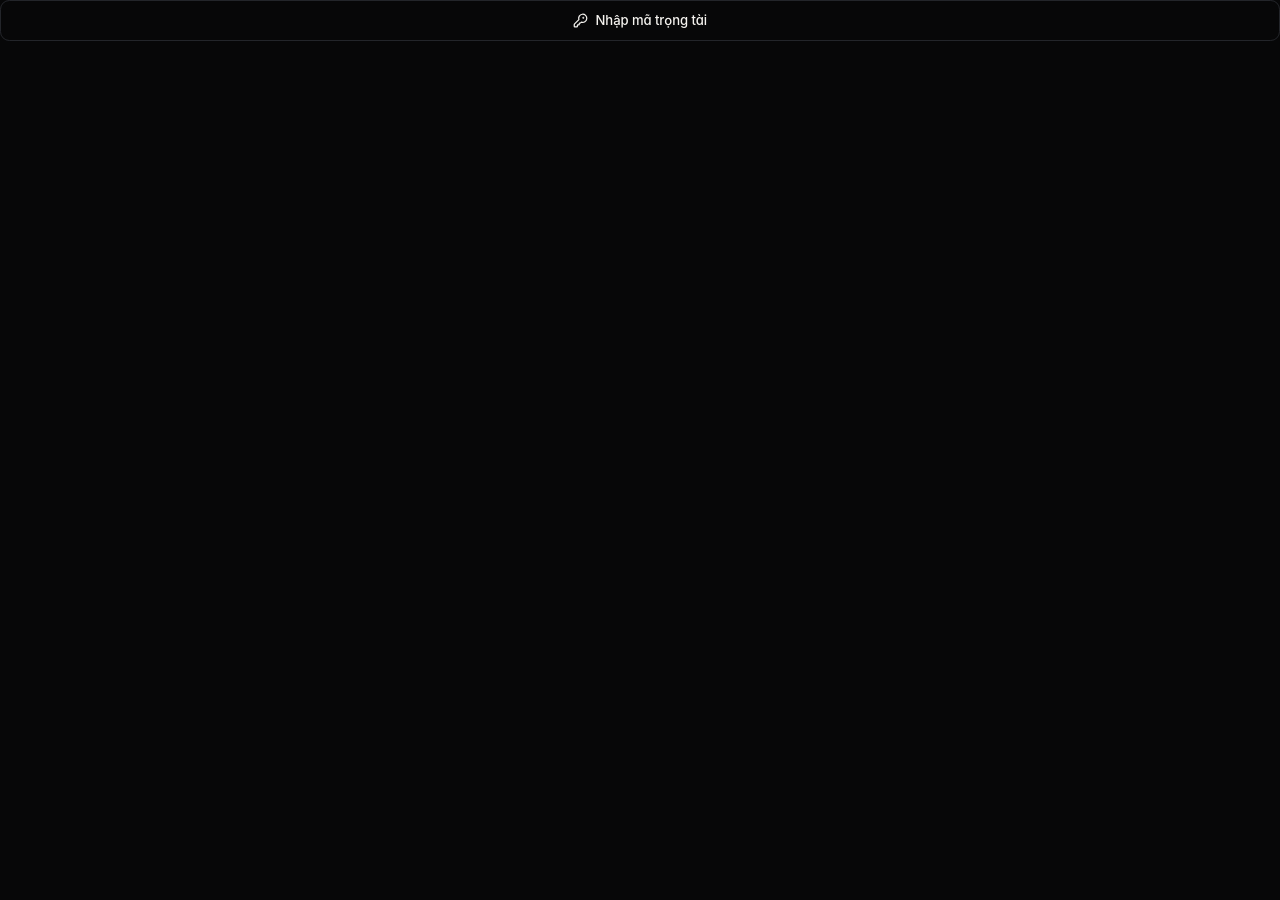
Scenario: RefereeJoinByPin — logged in › shows the invalid error inline
The width and height of the screenshot is (1280, 900).
Click the button "Nhập mã trọng tài": click(640, 21) [0,0,1279,41]
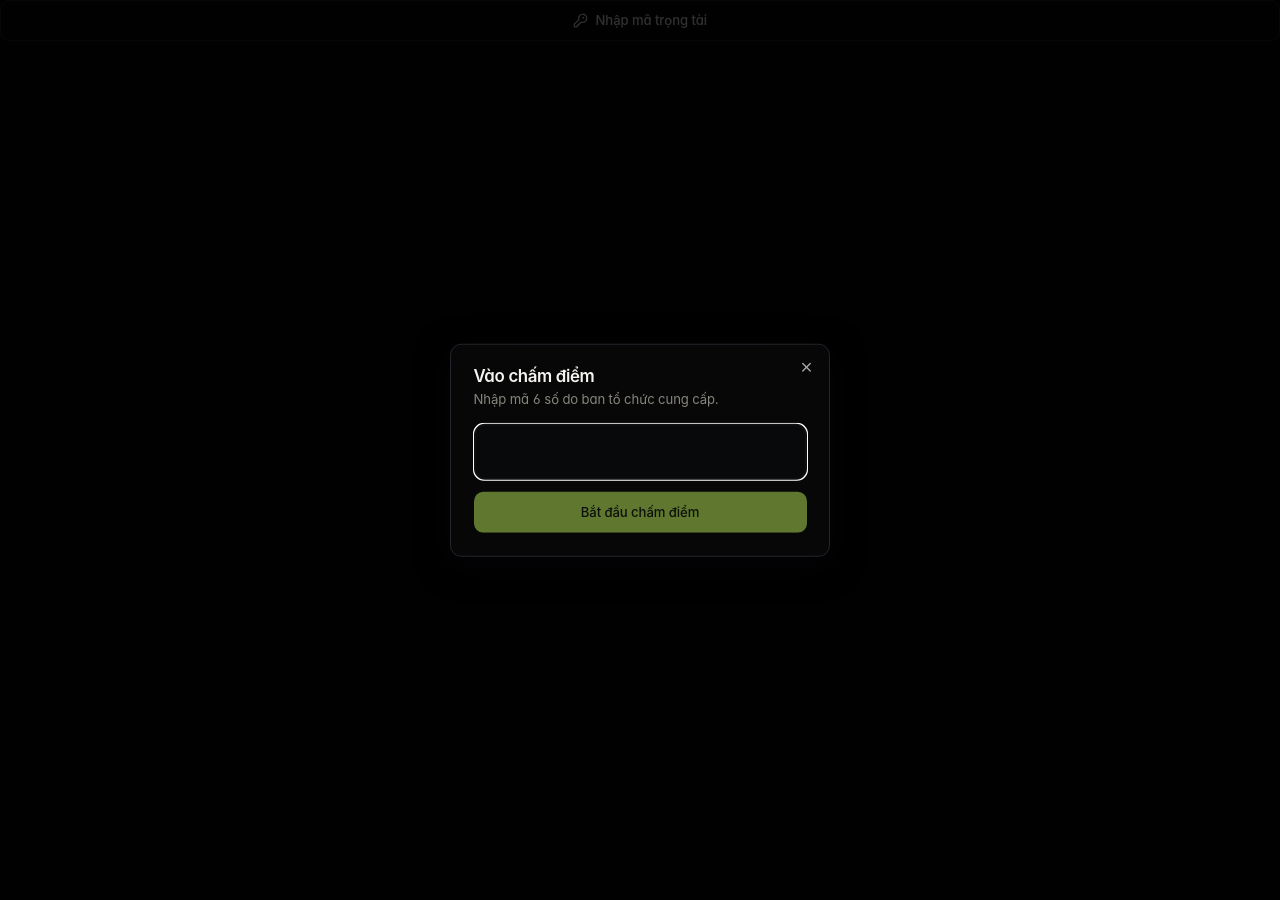
In the field named "Mã PIN trọng tài": (640, 452) [474,424,806,480], type "000000"
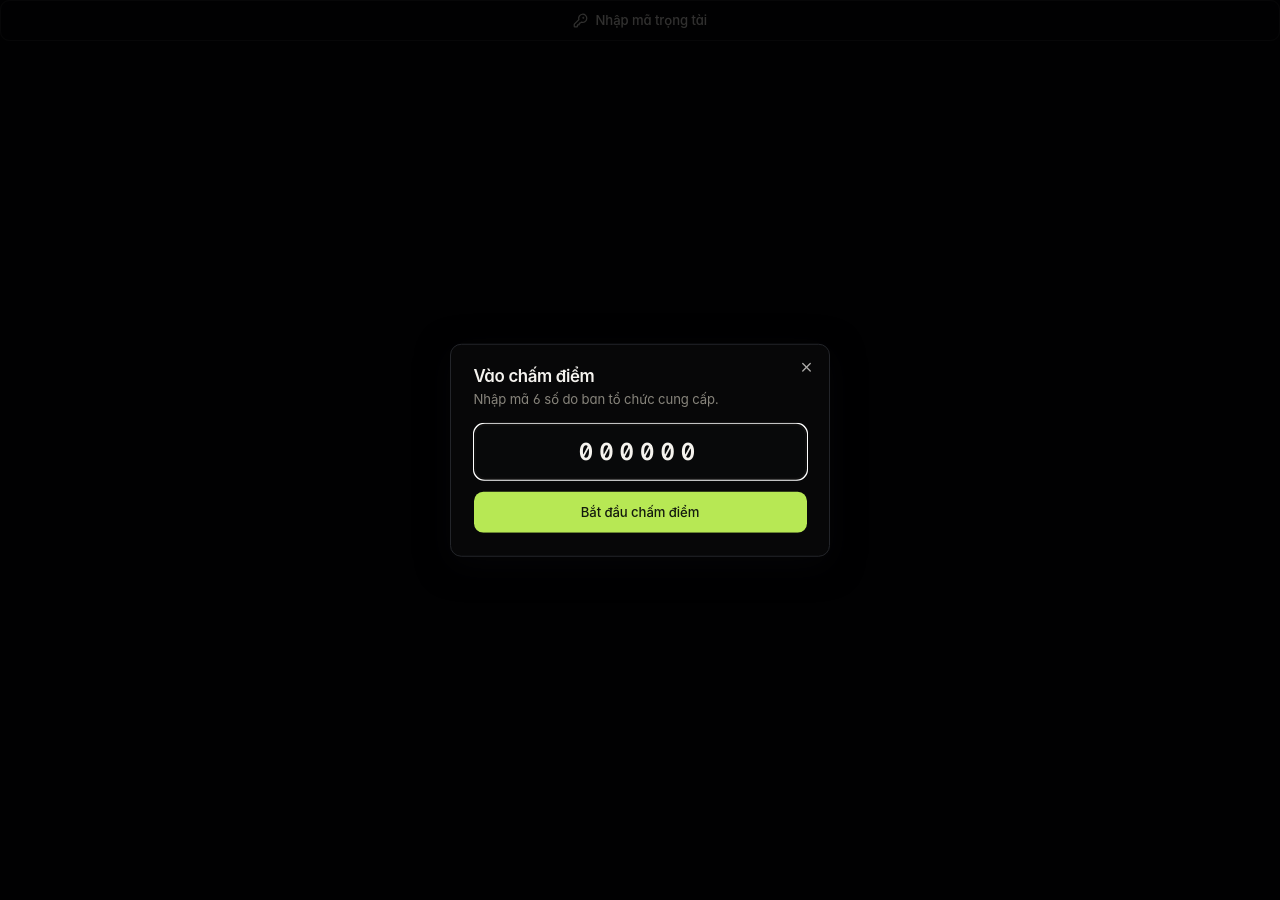
Click the button "Bắt đầu chấm điểm": click(640, 512) [474,492,806,533]
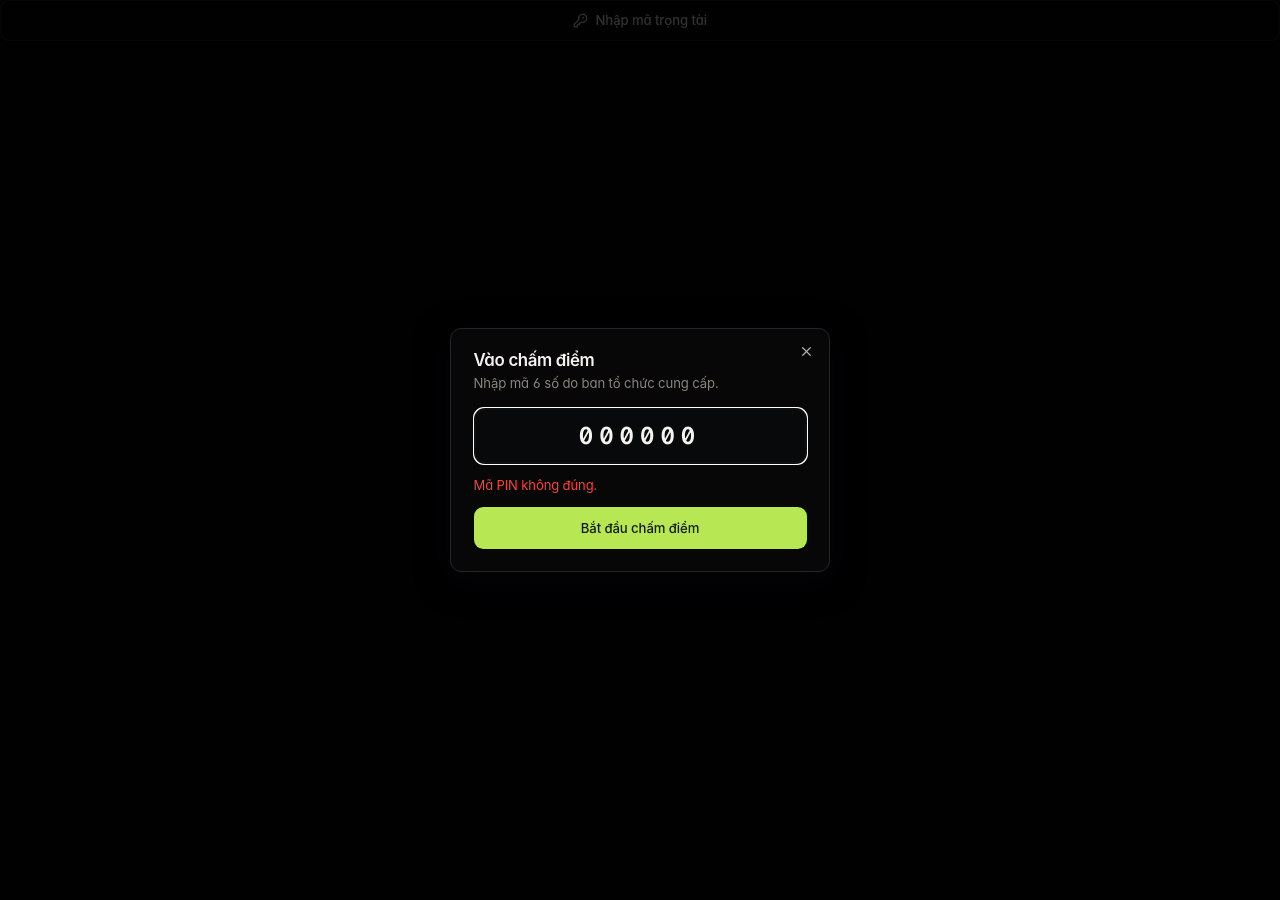
Check: the message reads "Mã PIN không đúng.", box [474,477,597,493]
